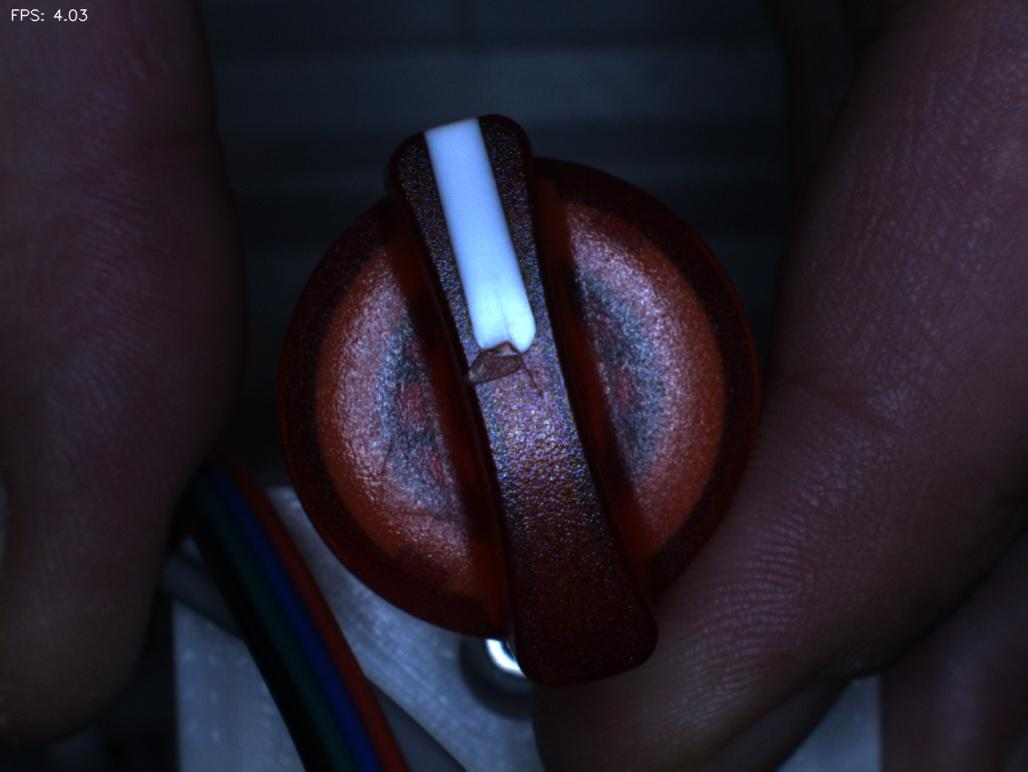Choc: (438, 307, 544, 406)
